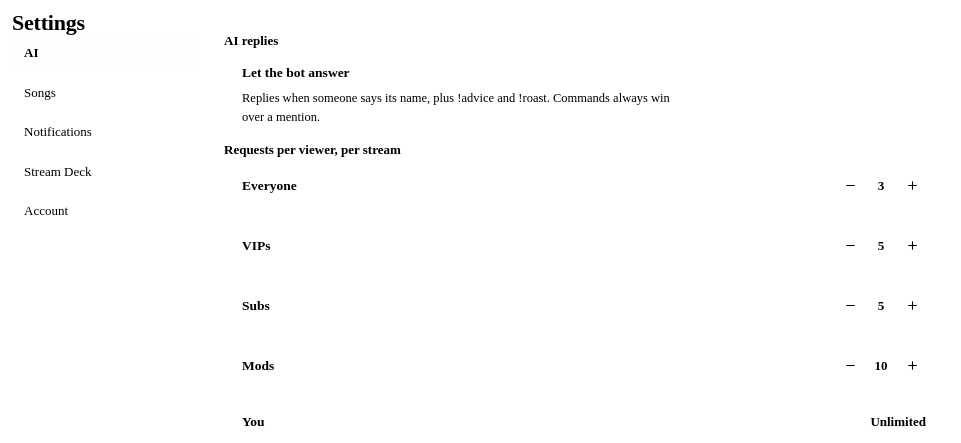
Test: Settings, the Notifications pane › offers Set rather than Replace when none is configured, and no Clear
This screenshot has width=961, height=443.
Click the button "Notifications" at (105,132), box [12,113,198,150]
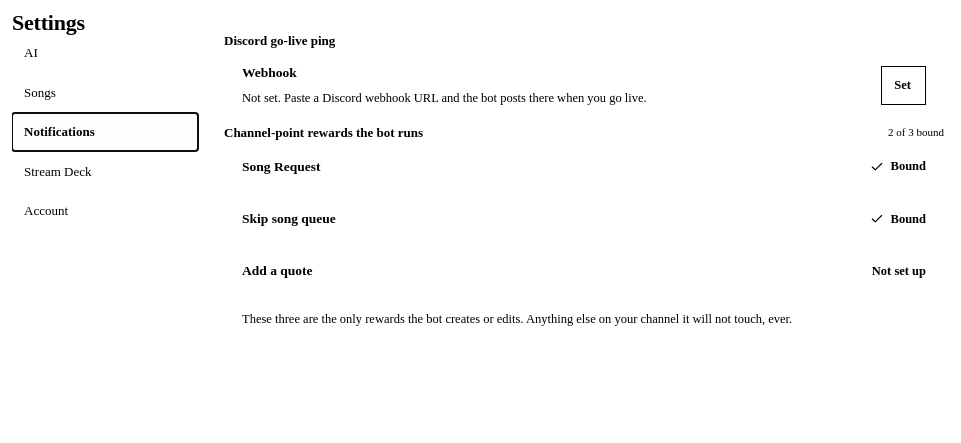
Check: the button "Set" is shown, box [881,66,926,105]
